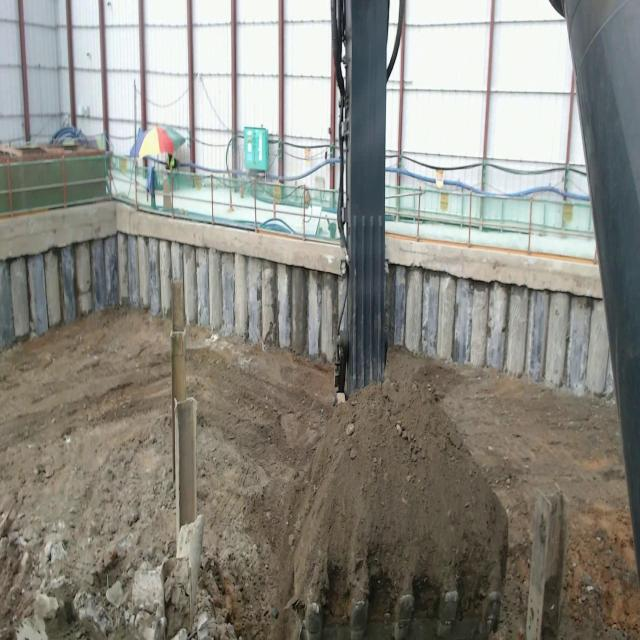cement: (0, 200, 343, 274), (389, 236, 600, 298)
red-sand: (186, 326, 640, 639), (0, 309, 175, 631)
rocks: (16, 516, 202, 639)
